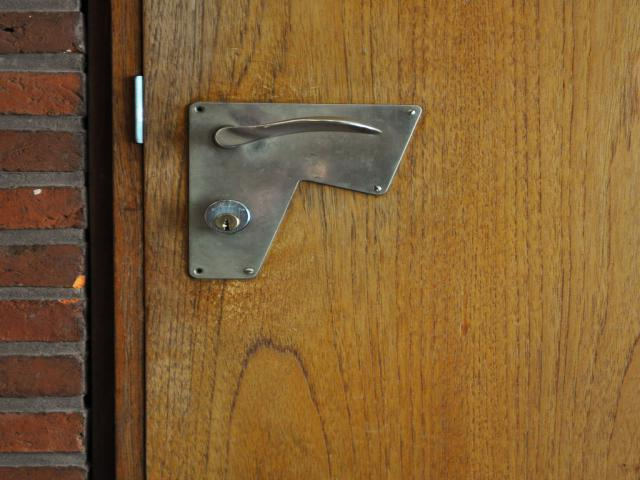Door-handle: (188, 102, 424, 280)
